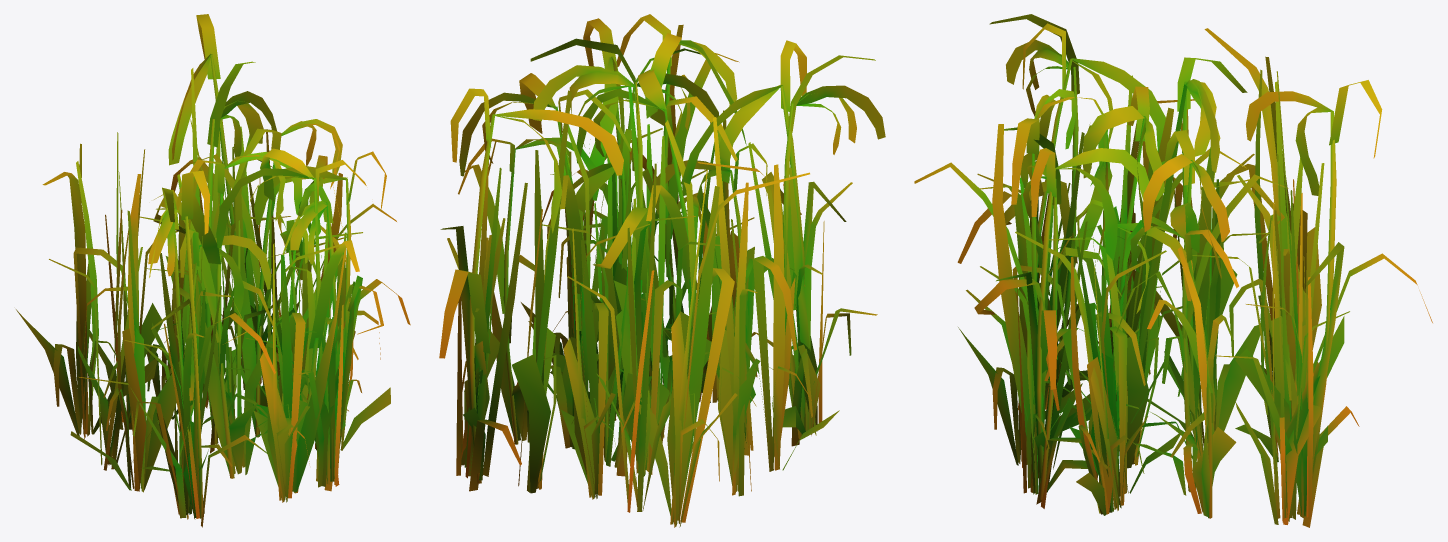
File: SM_Rice_4.fbx
3 renders of one model, left to right at view 1: azimuth 30°, elevation 25°; view 2: azimuth 150°, elevation 25°; view 3: azimuth 270°, elevation 25°, orthographic. The views are drawn at different scales.
Visible parts, largest first — view 1: SM_Rice_4; view 2: SM_Rice_4; view 3: SM_Rice_4.
Boxes of the visible parts, x1,y1,x2,y2 form: SM_Rice_4: (16,14,410,527); SM_Rice_4: (439,14,885,527); SM_Rice_4: (914,14,1432,527).
Bounding box in the file's own units: 1.67 × 1.76 × 1.9.
